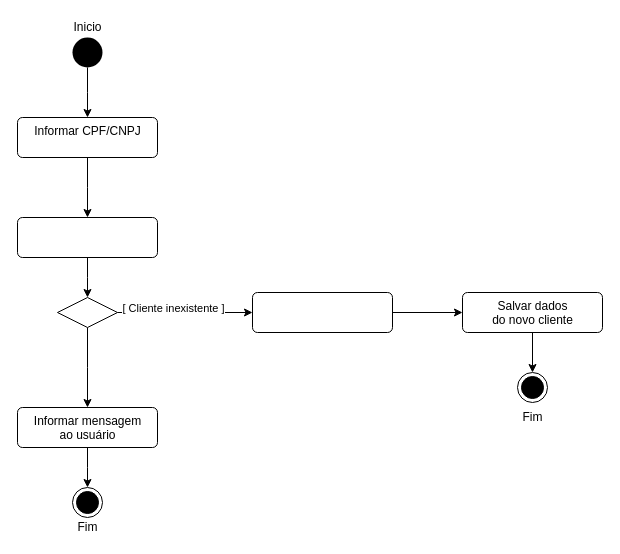
The diagram is 620 pixels wide and 554 high, and some of its shapes have lost their labels. The shapes that lost their labels are listed below. From the top down, each one's centre as x and y in pixels, then its label:
the point at 87,237: Verificar se o cliente existe
the point at 322,312: Informar dados do novo cliente
